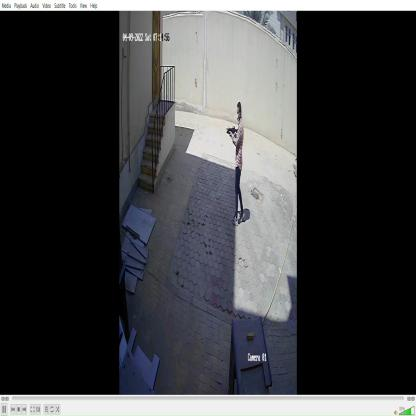handgun: (223, 122, 243, 142)
